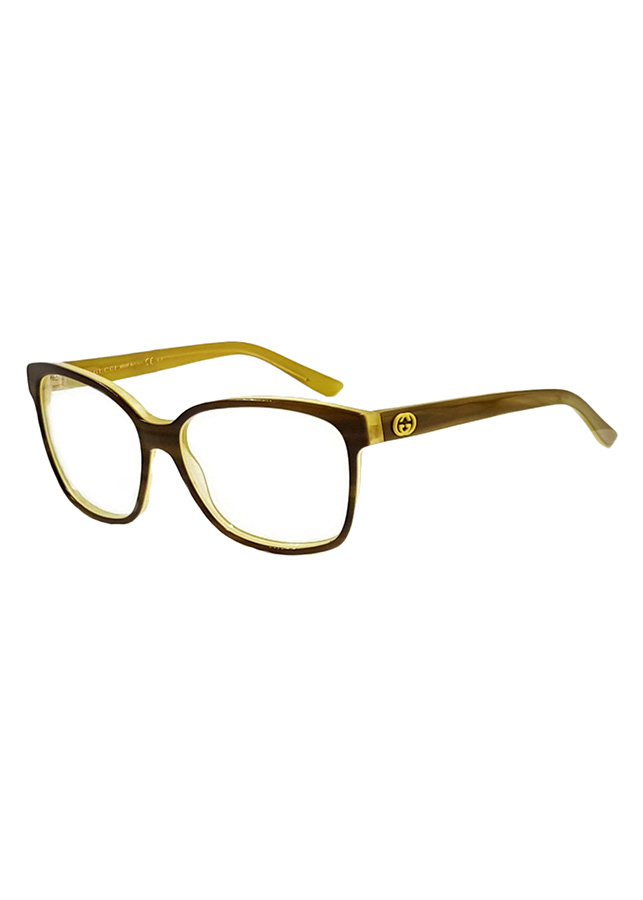Gucci: (385, 409, 420, 443)
